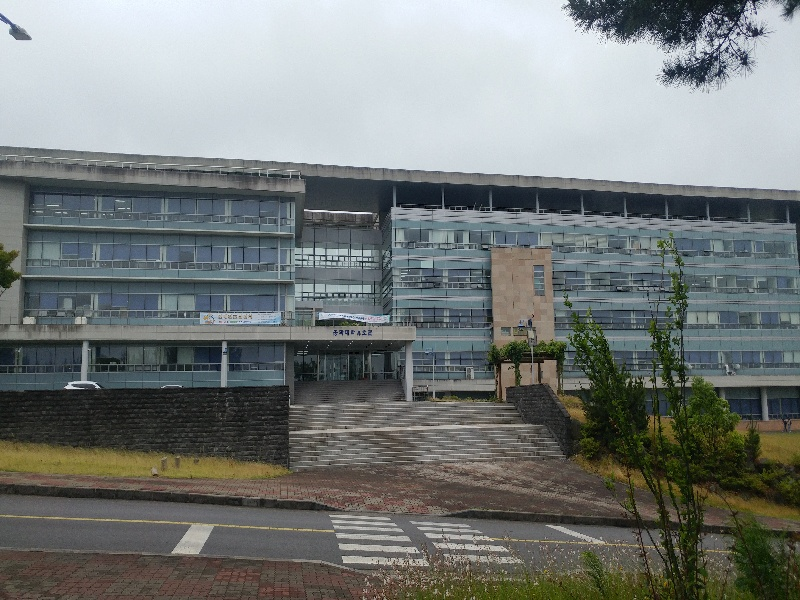Engineering College Building 4: (4, 148, 783, 391), (40, 174, 788, 333), (326, 323, 391, 347)
